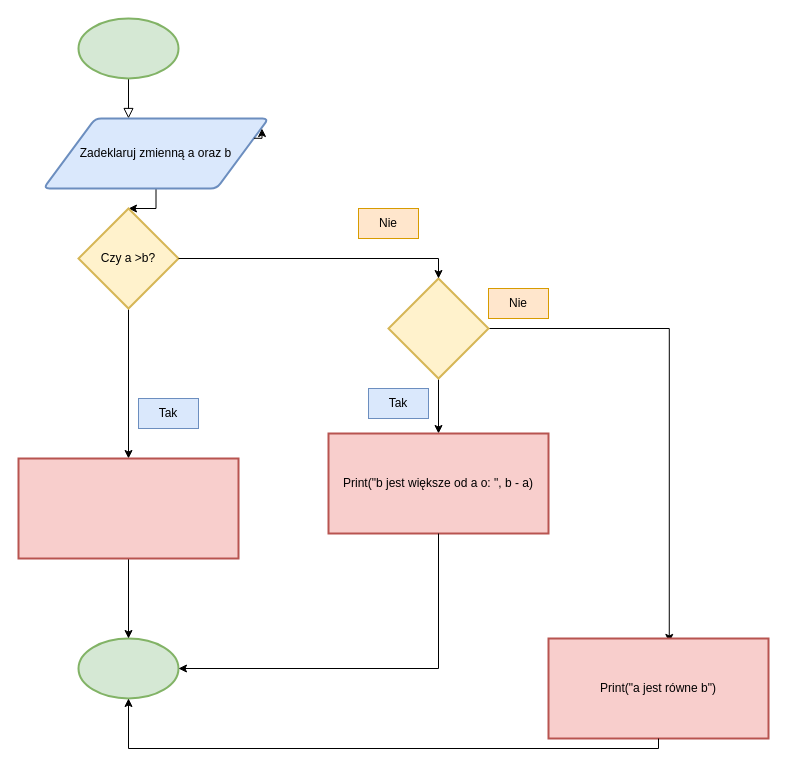
This 786x774 diagram has some shape labels left out. The shapes that lost their labels are listed below. From the top down, each one's centre as x and y in pixels, then its label:
[128,48]: Start
[438,328]: Czy b > a?
[128,508]: Print("a jest większe od b o: ", a - b)
[128,668]: Stop
